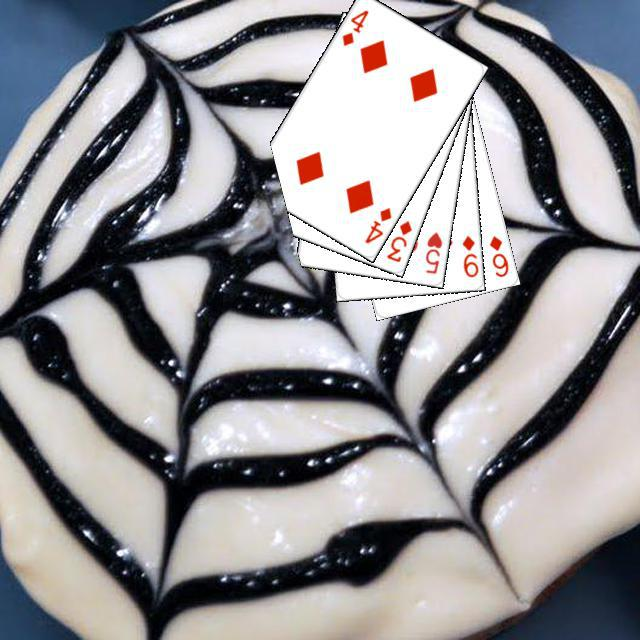3d: (381, 215, 413, 264)
4d: (337, 5, 370, 48), (360, 203, 393, 245)
5h: (420, 227, 444, 276)
6d: (484, 231, 510, 279)
9d: (457, 230, 479, 279)
